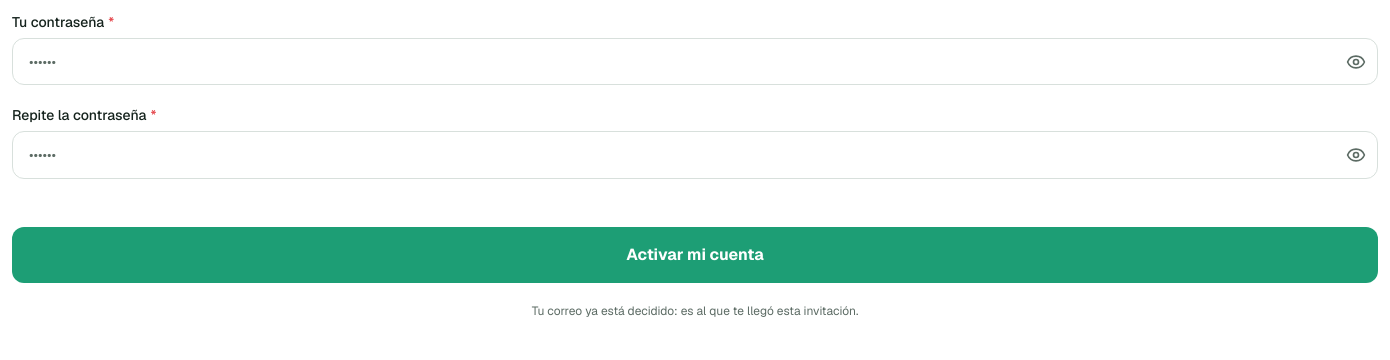
it: InvitacionForm › no activa nada si las contraseñas no coinciden
The width and height of the screenshot is (1390, 360).
Type "MiClave2026" into the password field labelled "Tu contraseña *" at (695, 62), box [12,38,1378,85]
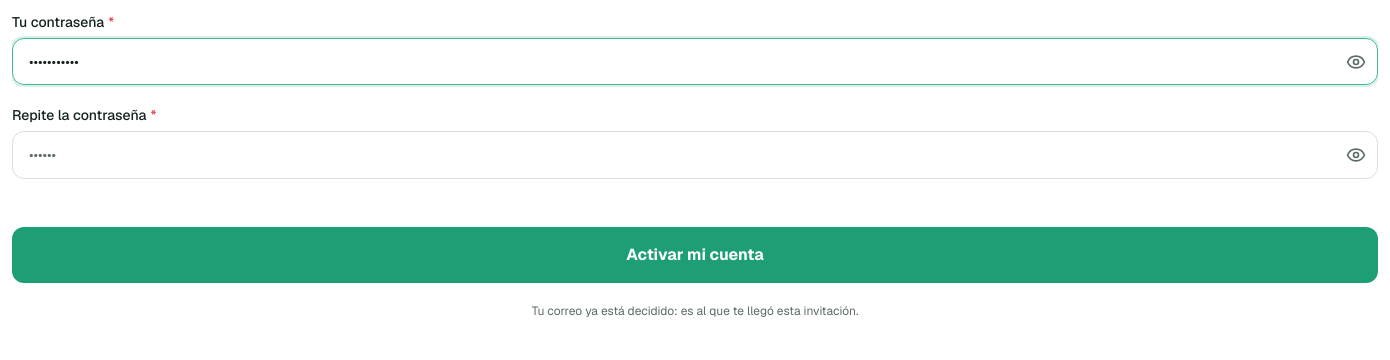
Type "OtraClave2026" into the password field labelled "Repite la contraseña *" at (695, 155), box [12,131,1378,179]
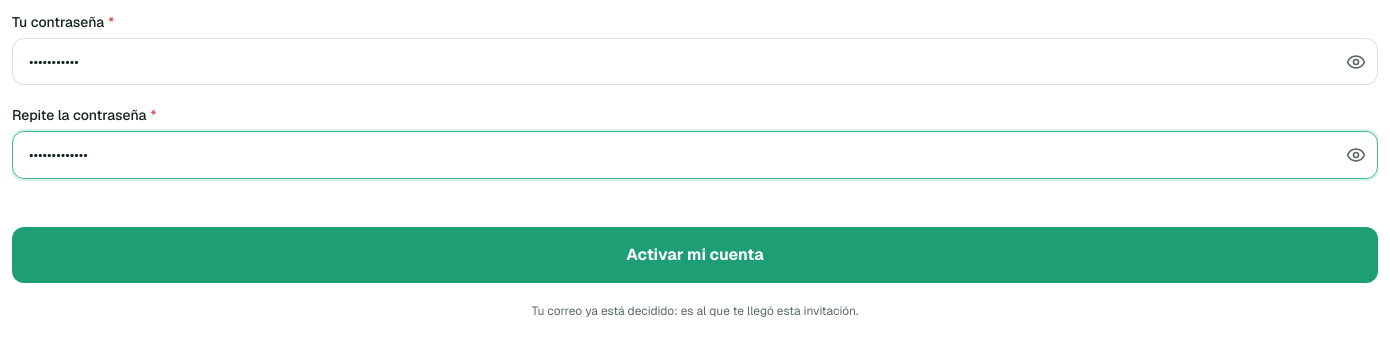
Click the button "Activar mi cuenta" at (695, 255), box [12,227,1378,283]
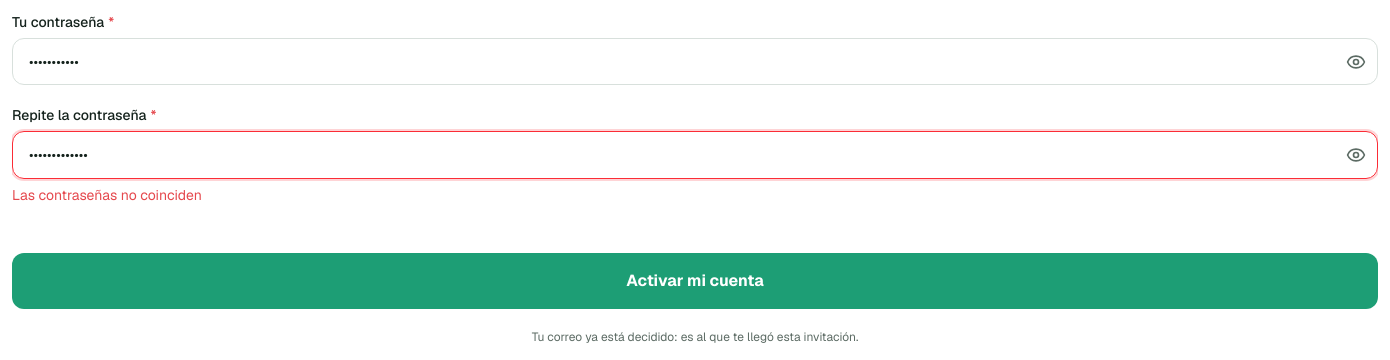
Check: the text "Las contraseñas no coinciden" is shown, box [12,186,202,204]
